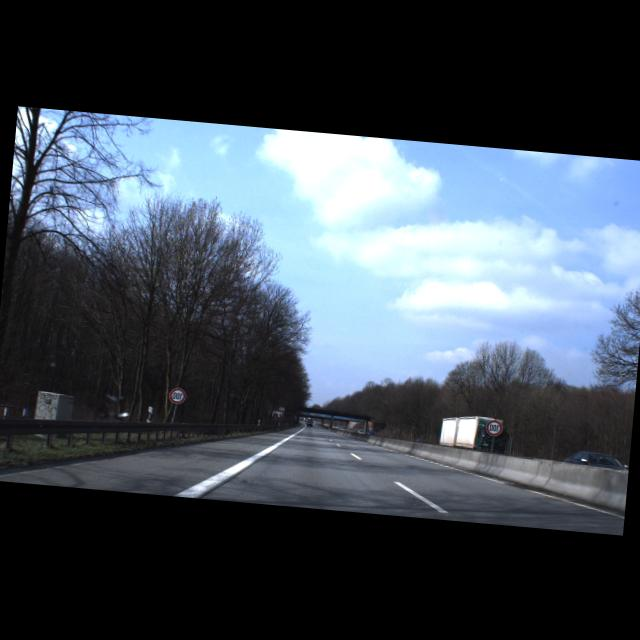prohibitory: (486, 418, 504, 436), (169, 386, 187, 404)
